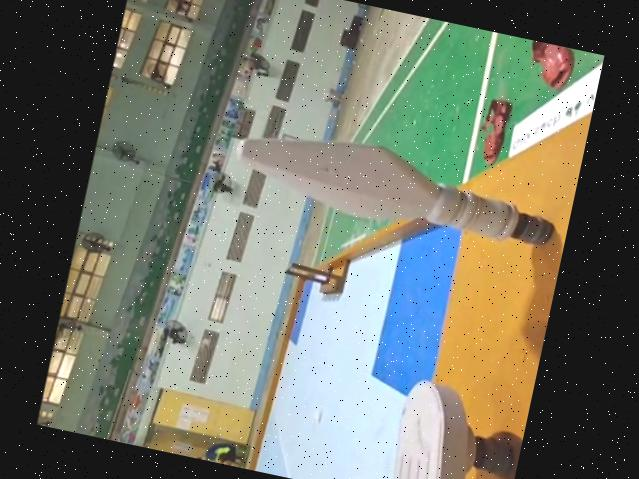Hand: (379, 375, 529, 479)
Sph: (226, 112, 565, 261)
